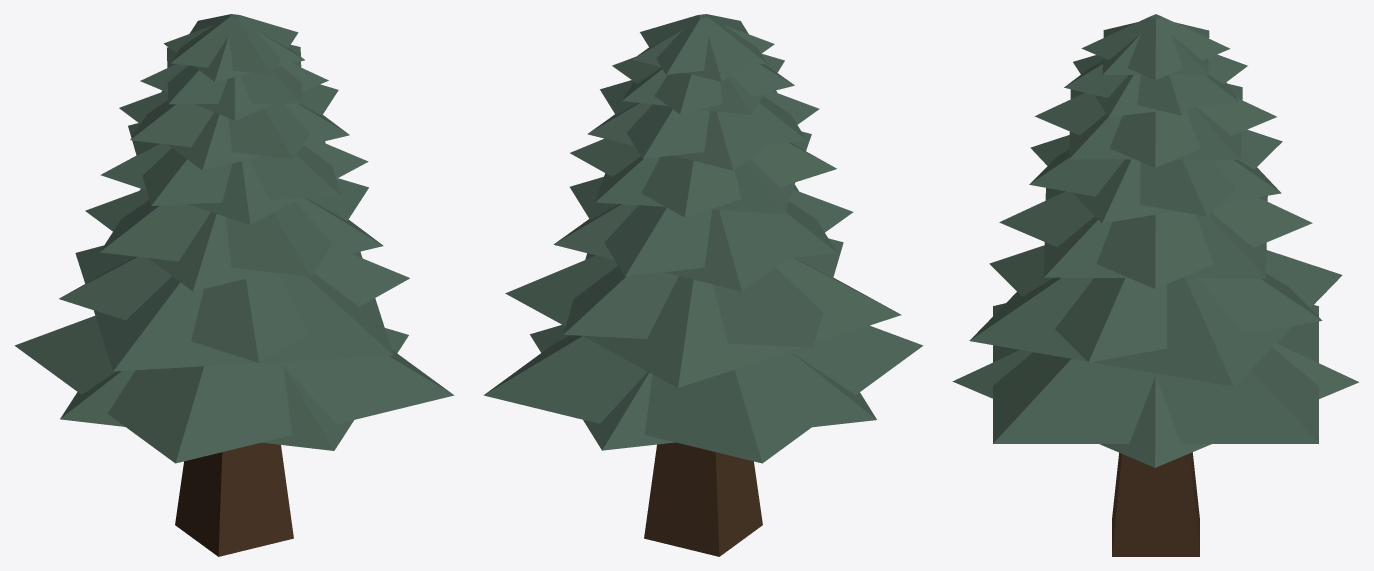
File: LOWBLOCKPINE3-convcol.glb
The picture shows the model from 3 angles, left to right: view 1: azimuth 30°, elevation 25°; view 2: azimuth 150°, elevation 25°; view 3: azimuth 270°, elevation 25°; orthographic projection.
Visible parts, largest first — view 1: Cube.003, trunk-convcol; view 2: Cube.003, trunk-convcol; view 3: Cube.003, trunk-convcol.
Boxes of the visible parts, x1,y1,x2,y2 form: Cube.003: [14, 14, 454, 463]; trunk-convcol: [175, 442, 293, 556]; Cube.003: [483, 14, 923, 463]; trunk-convcol: [644, 442, 762, 556]; Cube.003: [952, 14, 1358, 467]; trunk-convcol: [1112, 452, 1199, 556].
Size of the model in its own units: 6.47 by 9.14 by 6.47.
2 materials, 2 textured.
